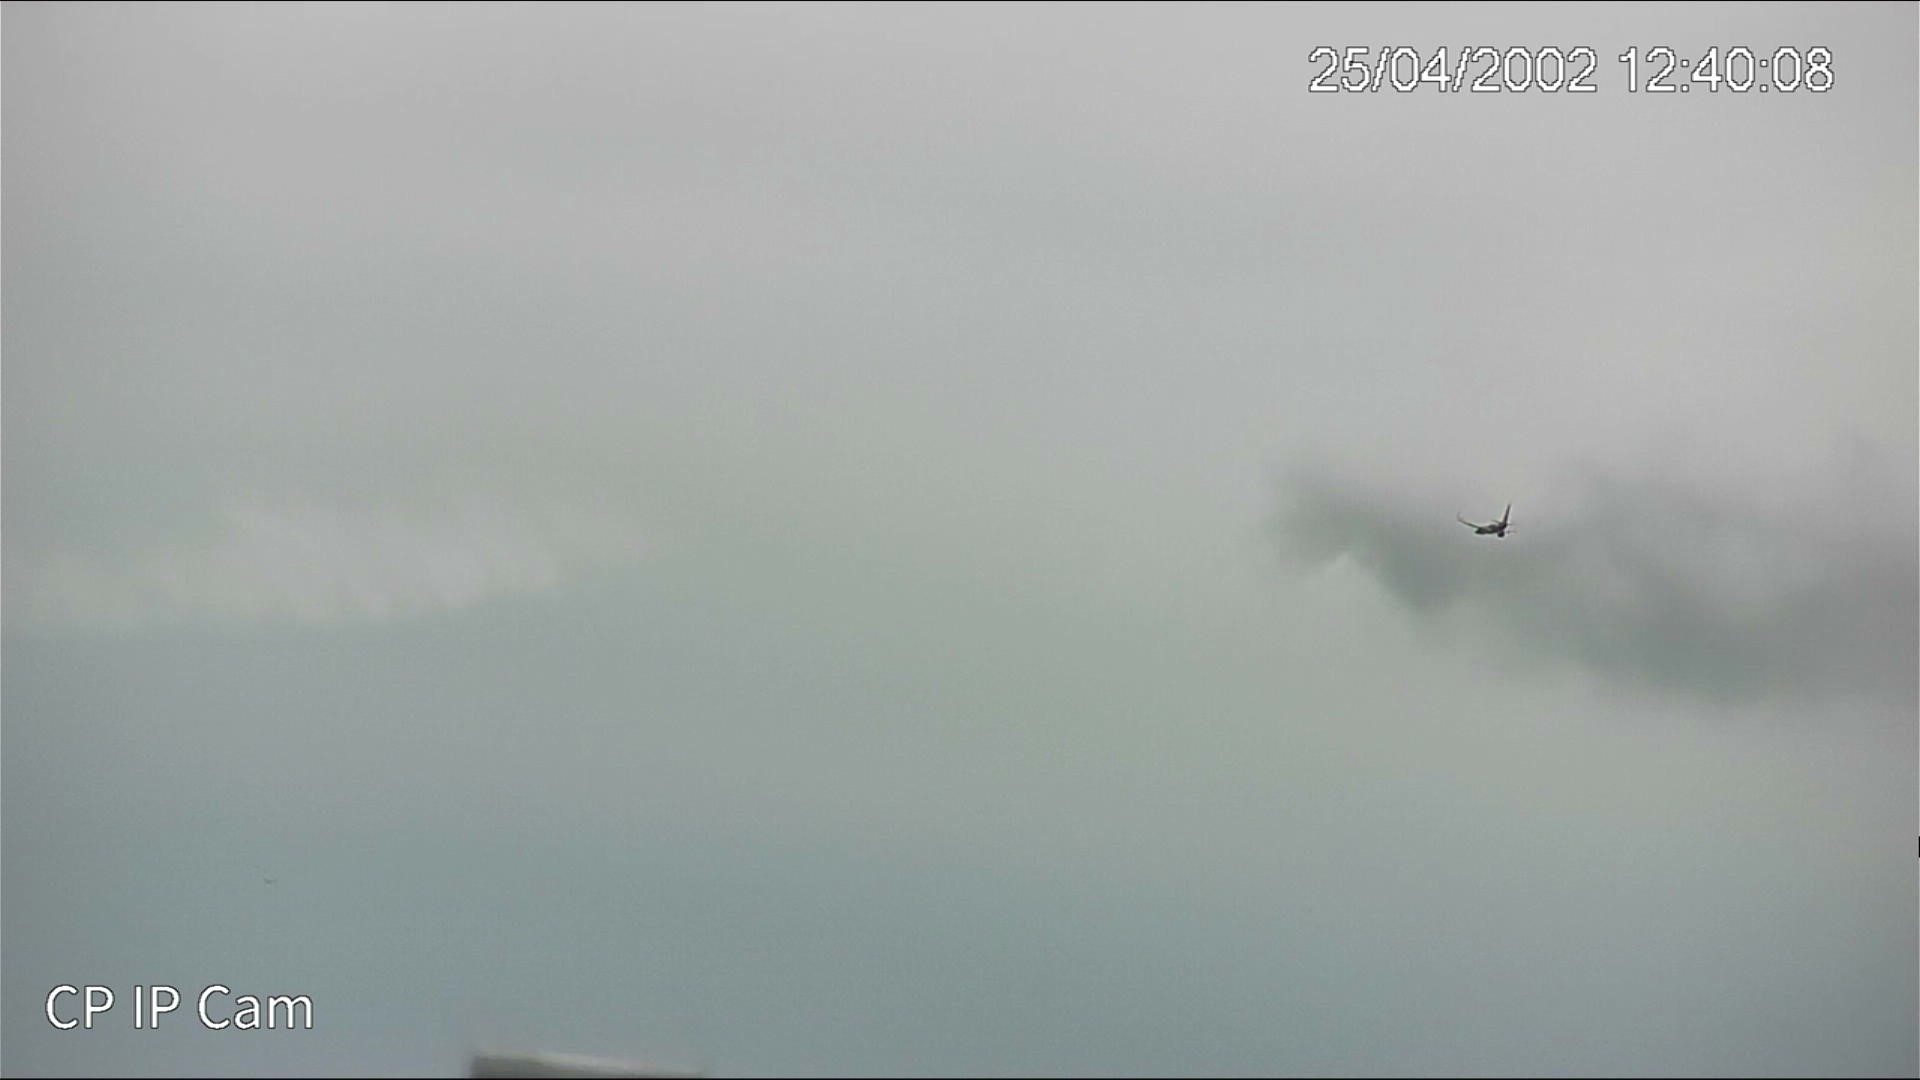SU_30: (1453, 501, 1516, 541)
